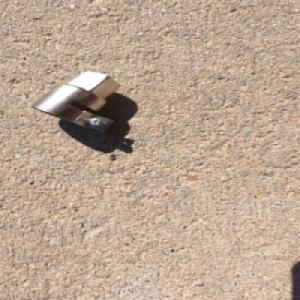MetalPart: (29, 69, 122, 132)
